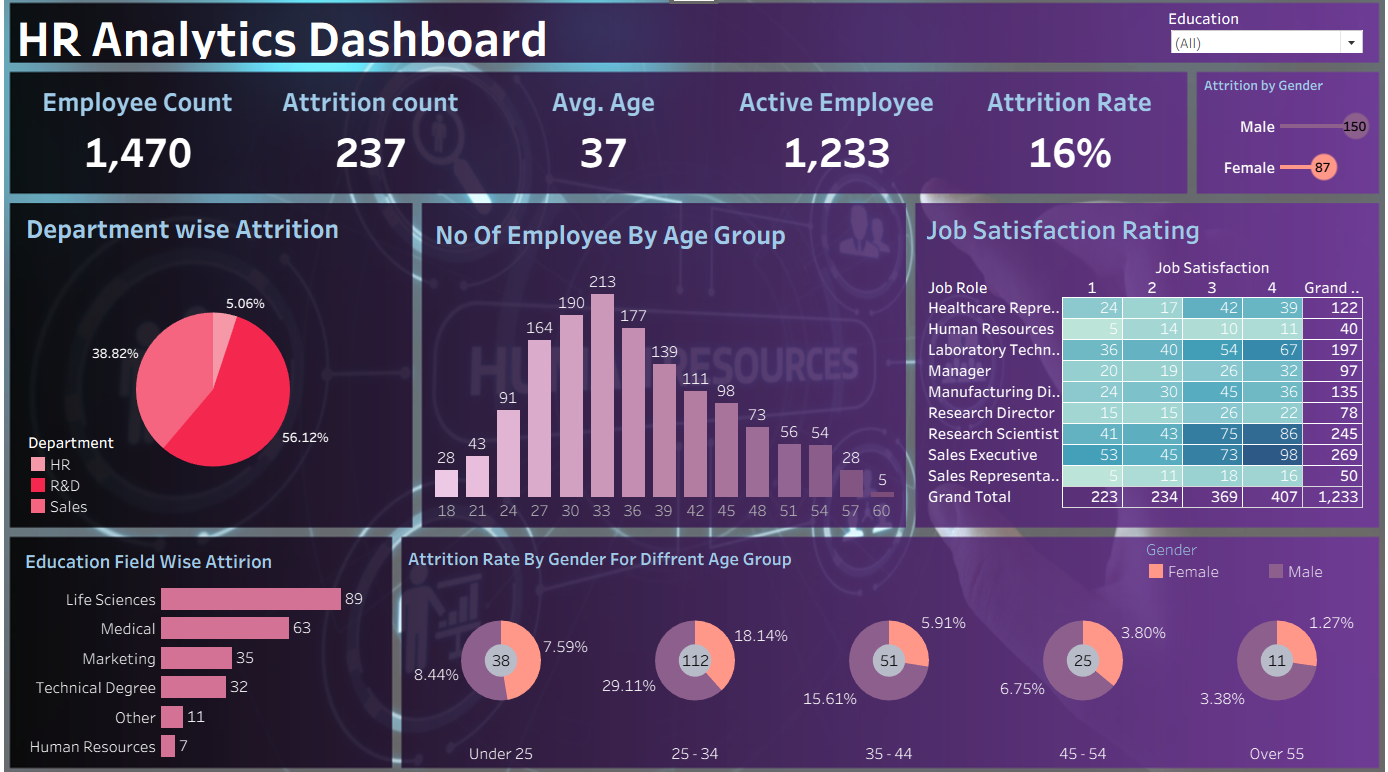

The page's visual inventory and layout, read from the dashboard file:
{"tool":"tableau","page":{"name":"Dashboard 1","canvas":[1000,1000],"units":"permille","ordinal":0},"visuals":[{"type":"image","param":"C:/Users/kmaha/Downloads/HR background.pptx.png","box":[4.8,10,990.3,980]},{"type":"filter","title":"Department wise Attrition","param":"[federated.0hqrrvo07ethri19999580c5o0e1].[none:Education:nk]","box":[785.8,28.7,119.5,56.2]},{"type":"text","box":[88.7,36.2,818.4,56.2]},{"type":"worksheet","title":"Attrition by Gender","mark":"Automatic","rows":["Gender"],"cols":["Calculation_1437492753430896640","Calculation_1437492753430896640"],"box":[805.1,108.6,104.4,144.8]},{"type":"worksheet","title":"KPI","mark":"Automatic","box":[93.5,116.1,703.1,132.3]},{"type":"worksheet","title":"Department wise Attrition","mark":"Pie","box":[94.2,277.2,230.5,394.5]},{"type":"worksheet","title":"Job Satisfaction Rating","mark":"Square","rows":["Job Role"],"cols":["Job Satisfaction"],"box":[637.3,278.4,269.2,390.8]},{"type":"worksheet","title":"No Of Employee By Age Group","mark":"Automatic","rows":["Employee Count"],"cols":["Age (bin)"],"box":[341,284.6,282.4,385.8]},{"type":"legend","title":"Department wise Attrition","param":"[federated.0hqrrvo07ethri19999580c5o0e1].[none:Department:nk]","box":[97.8,558.1,84.5,106.1]},{"type":"worksheet","title":"Attrition Rate By Gender For Diffrent Age Group ","mark":"Pie","rows":["Calculation_1607222164629598209","Calculation_1607222164629598209"],"cols":["CF_age band"],"box":[324.7,695.4,585.4,278.4]},{"type":"worksheet","title":"Education Field Wise Attirion","mark":"Automatic","rows":["Education Field"],"cols":["Calculation_1437492753430896640"],"box":[93.5,697.9,215.5,270.9]}]}

Visuals, with their boxes on the dashboard's canvas, which has no fixed pixel size, in thousandths of its width and height (x1, y1, x2, y2). These are canvas units, not pixel positions in the 1388x772 screenshot, which may show the page scaled, cropped or inside an application window:
image: bbox=(5, 10, 995, 990)
"Department wise Attrition" filter: bbox=(786, 29, 905, 85)
text: bbox=(89, 36, 907, 92)
"Attrition by Gender" worksheet: bbox=(805, 109, 910, 253)
"KPI" worksheet: bbox=(94, 116, 797, 248)
"Department wise Attrition" worksheet (Pie marks): bbox=(94, 277, 325, 672)
"Job Satisfaction Rating" worksheet (Square marks): bbox=(637, 278, 906, 669)
"No Of Employee By Age Group" worksheet: bbox=(341, 285, 623, 670)
"Department wise Attrition" legend: bbox=(98, 558, 182, 664)
"Attrition Rate By Gender For Diffrent Age Group " worksheet (Pie marks): bbox=(325, 695, 910, 974)
"Education Field Wise Attirion" worksheet: bbox=(94, 698, 309, 969)
